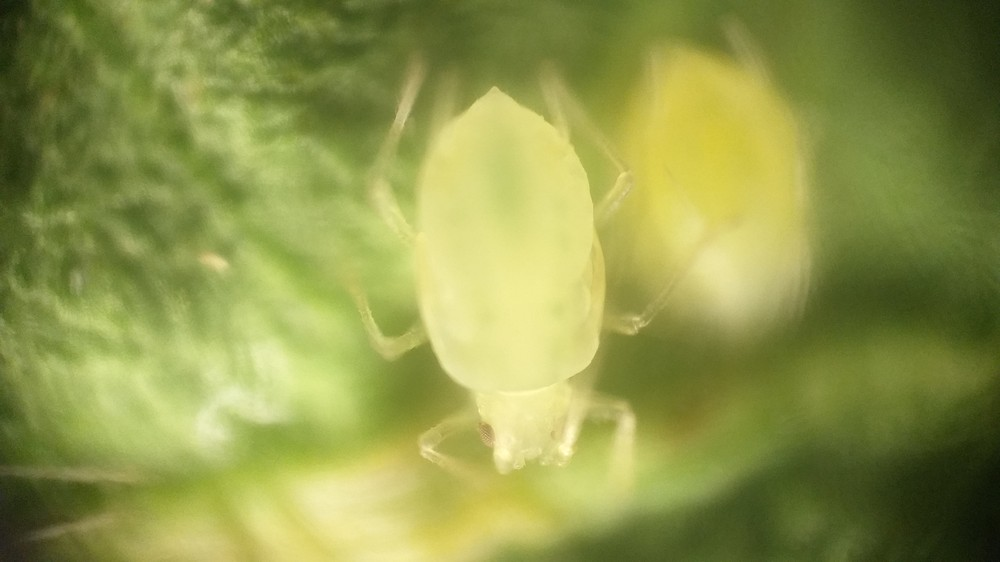Pulgon: (323, 50, 693, 527)
